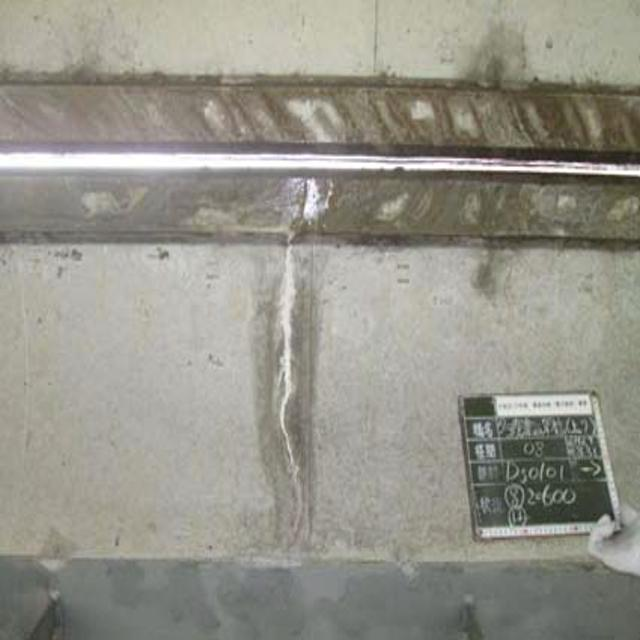freelime: (260, 173, 337, 467), (280, 95, 567, 148)
